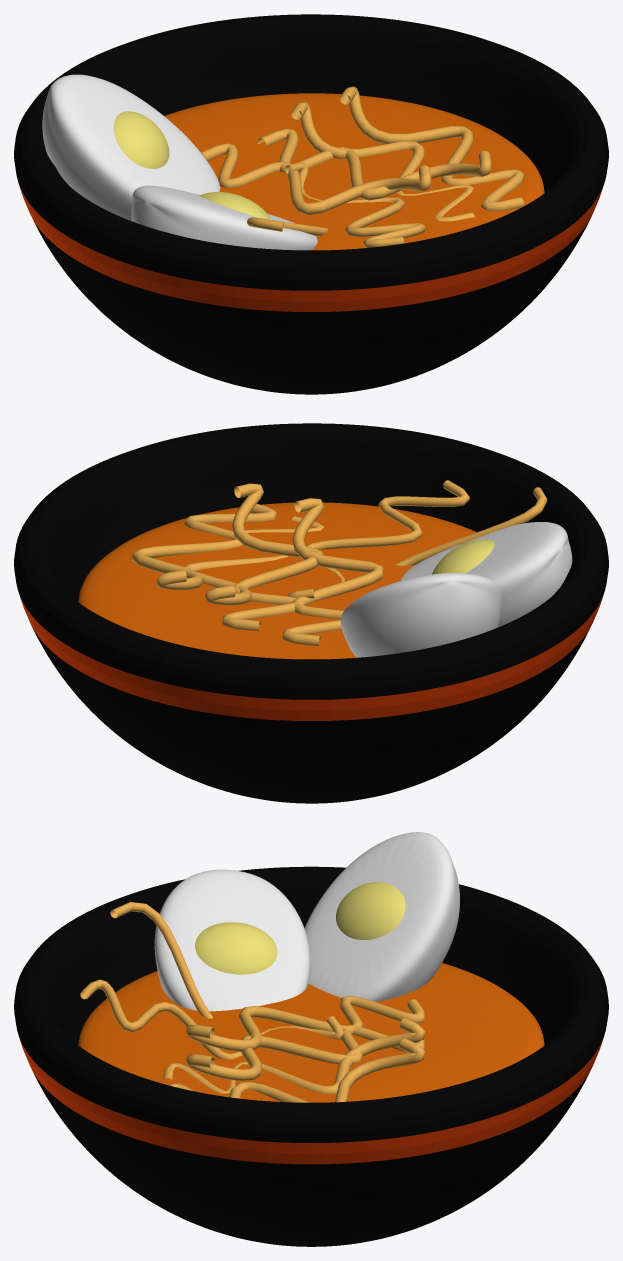
File: ramen.fbx
3 views of the same model, one above another, from view 1: azimuth 30°, elevation 25°; view 2: azimuth 150°, elevation 25°; view 3: azimuth 270°, elevation 25° (orthographic).
Visible parts, largest first — view 1: Sphere, Sphere.003, egg.002, egg, BezierCurve.003, BezierCurve, BezierCurve.005, BezierCurve.001, BezierCurve.004, egg.003, egg.001, BezierCurve.002; view 2: Sphere, Sphere.003, egg.002, egg, BezierCurve, BezierCurve.005, BezierCurve.003, BezierCurve.004, BezierCurve.001, BezierCurve.002, egg.001; view 3: Sphere, Sphere.003, egg.002, egg, BezierCurve, egg.001, egg.003, BezierCurve.005, BezierCurve.001, BezierCurve.003, BezierCurve.004, BezierCurve.002.
Part boxes in pixels (x1,y1,x2,y2): Sphere: (14, 14, 608, 394); Sphere.003: (164, 93, 544, 250); egg.002: (42, 74, 220, 221); egg: (131, 185, 317, 250); BezierCurve.003: (339, 86, 524, 210); BezierCurve: (201, 143, 431, 215); BezierCurve.005: (257, 128, 491, 200); BezierCurve.001: (291, 101, 474, 221); BezierCurve.004: (285, 162, 425, 247); egg.003: (113, 111, 169, 168); egg.001: (200, 192, 270, 219); BezierCurve.002: (247, 217, 327, 236); Sphere: (14, 423, 608, 803); Sphere.003: (78, 502, 498, 659); egg.002: (340, 573, 502, 657); egg: (400, 522, 572, 626); BezierCurve: (282, 498, 383, 645); BezierCurve.005: (222, 483, 323, 631); BezierCurve.003: (131, 504, 277, 590); BezierCurve.004: (287, 480, 469, 598); BezierCurve.001: (185, 516, 323, 605); BezierCurve.002: (396, 487, 547, 565); egg.001: (432, 539, 494, 574); Sphere: (14, 866, 608, 1246); Sphere.003: (78, 963, 544, 1102); egg.002: (304, 832, 459, 1001); egg: (154, 869, 310, 1011); BezierCurve: (186, 995, 424, 1051); egg.001: (195, 922, 277, 974); egg.003: (336, 882, 405, 939); BezierCurve.005: (186, 1025, 424, 1081); BezierCurve.001: (163, 1018, 425, 1093); BezierCurve.003: (169, 1038, 425, 1102); BezierCurve.004: (80, 979, 343, 1059); BezierCurve.002: (110, 902, 212, 1018).
Size of the model in its own units: 189 by 102 by 189.
